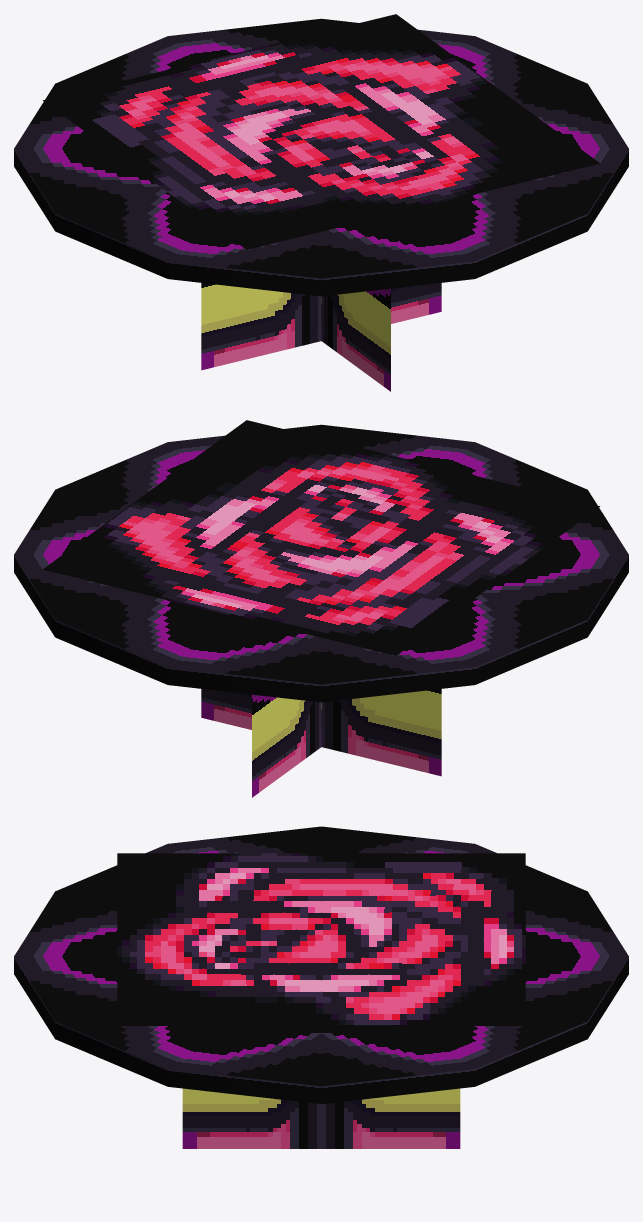
The picture shows the model from 3 angles, top to bottom: view 1: azimuth 30°, elevation 25°; view 2: azimuth 150°, elevation 25°; view 3: azimuth 270°, elevation 25°; orthographic projection.
Visible parts, largest first — view 1: 3612kg_23_ta0; view 2: 3612kg_23_ta0; view 3: 3612kg_23_ta0.
Boxes of the visible parts, left/top/right/bottom form: 3612kg_23_ta0: left=14, top=14, right=628, bottom=391; 3612kg_23_ta0: left=14, top=420, right=628, bottom=797; 3612kg_23_ta0: left=14, top=826, right=628, bottom=1148.
Size of the model in its own units: 2 by 0.75 by 2.
2 materials, 2 textured.
